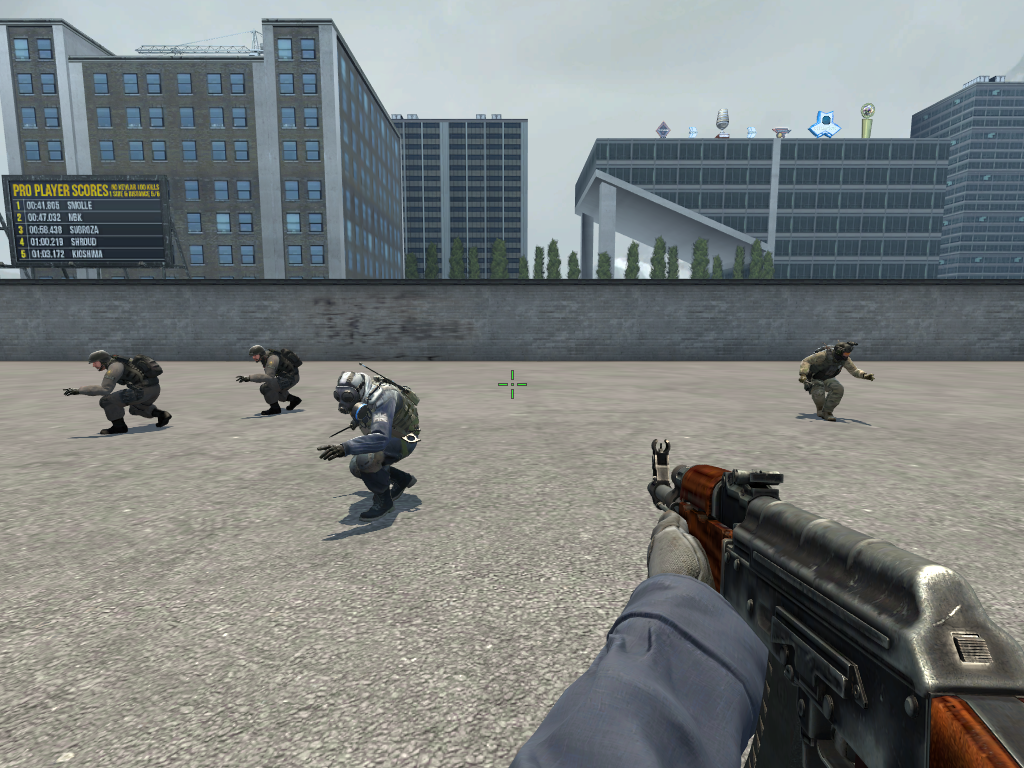ct head: (331, 367, 373, 426), (831, 337, 861, 364), (85, 348, 113, 375), (245, 341, 268, 370)
